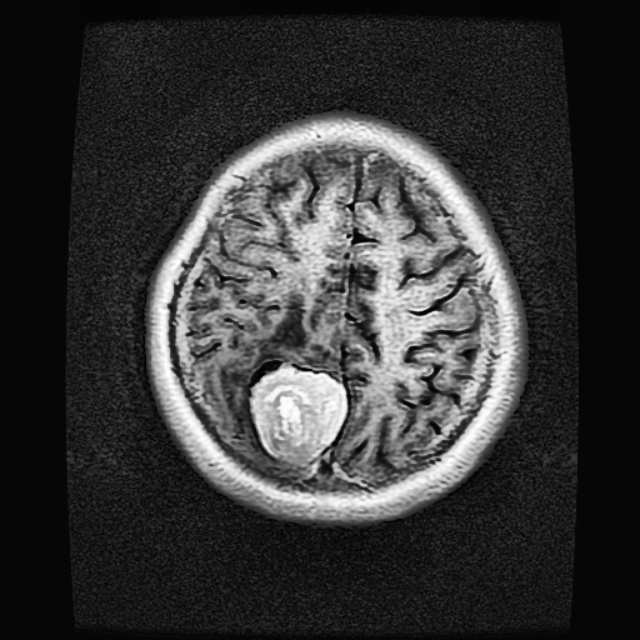Pituitary: (252, 364, 347, 465)
